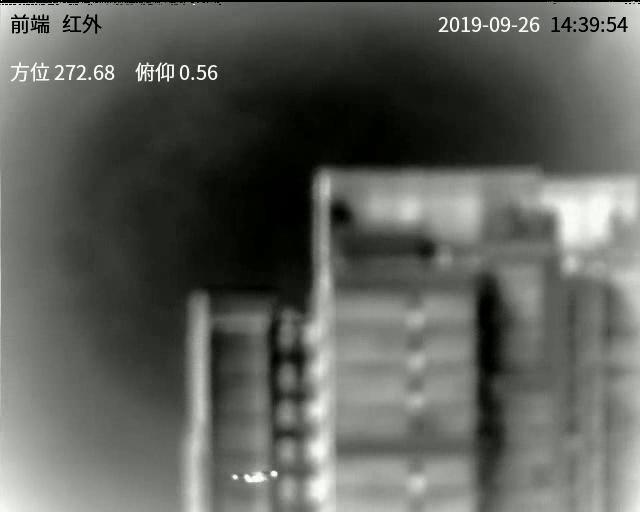DRONE: (229, 469, 280, 485)
